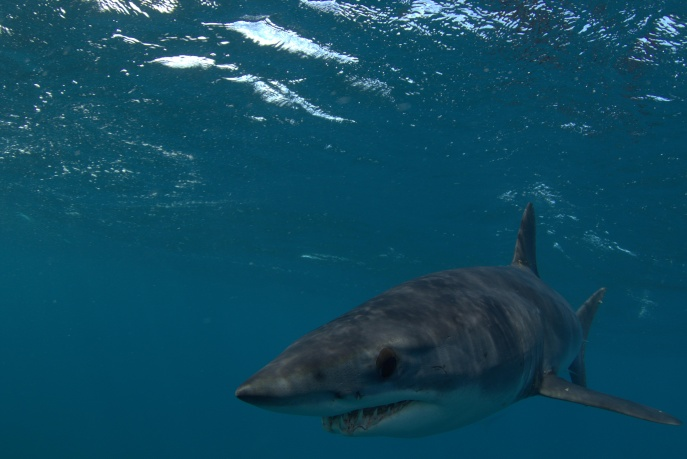Mako: (229, 199, 687, 449)
